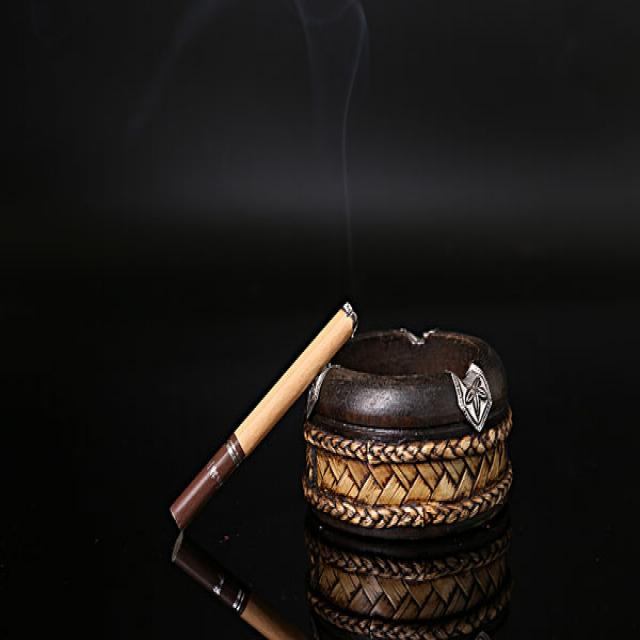smoking: (169, 302, 357, 531)
